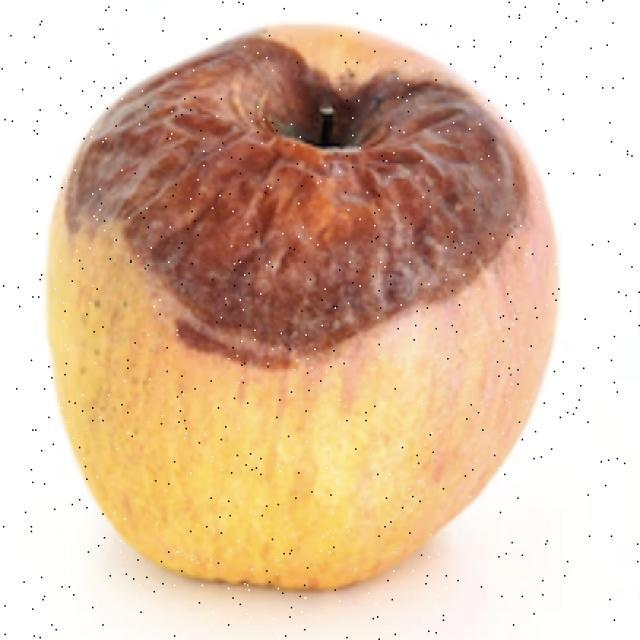Rotten: (70, 35, 555, 588)
